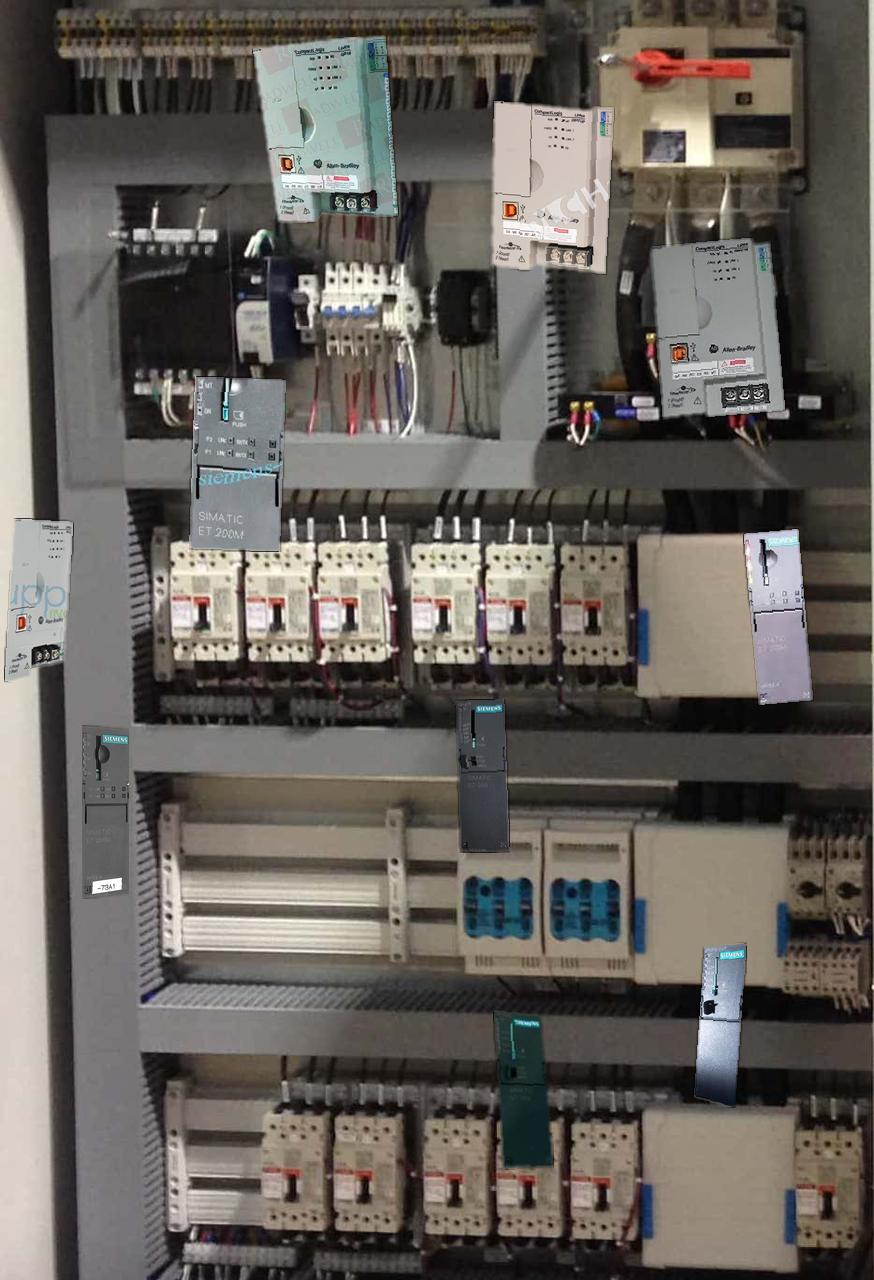AllenBradley: (253, 37, 397, 222), (651, 238, 784, 417), (492, 101, 612, 273), (5, 519, 72, 680)
Siemens: (494, 1010, 552, 1167), (694, 944, 746, 1106), (456, 699, 509, 852)
